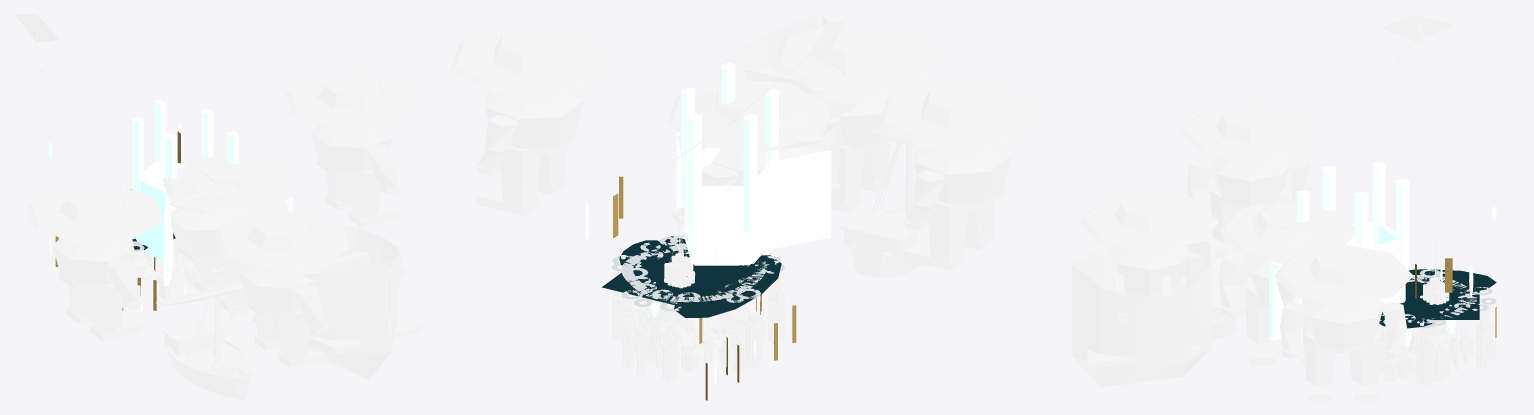
Rendered from ile-tonnerre-v5.glb.
The picture shows the model from 3 angles, left to right: view 1: azimuth 30°, elevation 25°; view 2: azimuth 150°, elevation 25°; view 3: azimuth 270°, elevation 25°; orthographic projection. The views are drawn at different scales.
Visible parts, largest first — view 1: ile_copie1.010, ile_copie0.014, ile_anime2.024, ile_anime1.024, ile_anime0.024, ile_anime4.018, ile_libre0.022, ile_anime3.022, ile_corps.024, ile_anime5.014, ile_vitres.016; view 2: ile_copie0.014, ile_copie1.010, ile_libre0.022, ile_anime2.024, ile_corps.024, ile_libre1.012, ile_anime0.024, ile_anime3.022, ile_anime4.018, ile_anime1.024, ile_vitres.016, ile_anime5.014 (+1 smaller); view 3: ile_copie1.010, ile_anime1.024, ile_copie0.014, ile_anime2.024, ile_anime4.018, ile_libre0.022, ile_corps.024, ile_anime3.022, ile_libre1.012, ile_anime5.014, ile_anime0.024, ile_lumieres.024 (+1 smaller).
Boxes of the visible parts, box(x1,y1,x2,y2) form: ile_copie1.010: box(285, 70, 420, 227); ile_copie0.014: box(27, 184, 162, 341); ile_anime2.024: box(214, 210, 349, 367); ile_anime1.024: box(253, 224, 421, 380); ile_anime0.024: box(156, 257, 255, 400); ile_anime4.018: box(169, 164, 289, 315); ile_libre0.022: box(132, 100, 292, 286); ile_anime3.022: box(162, 155, 298, 285); ile_corps.024: box(122, 238, 199, 309); ile_anime5.014: box(14, 14, 99, 77); ile_vitres.016: box(55, 131, 180, 310); ile_copie0.014: box(878, 79, 1043, 270); ile_copie1.010: box(450, 24, 615, 215); ile_libre0.022: box(676, 62, 831, 265); ile_anime2.024: box(774, 22, 939, 213); ile_corps.024: box(613, 205, 784, 381); ile_libre1.012: box(602, 235, 784, 317); ile_anime0.024: box(839, 126, 929, 278); ile_anime3.022: box(667, 79, 831, 151); ile_anime4.018: box(672, 90, 823, 251); ile_anime1.024: box(719, 14, 858, 200); ile_vitres.016: box(613, 176, 796, 400); ile_anime5.014: box(627, 20, 846, 190); ile_copie1.010: box(1274, 244, 1413, 400); ile_anime1.024: box(1072, 241, 1212, 387); ile_copie0.014: box(1180, 101, 1319, 257); ile_anime2.024: box(1079, 191, 1218, 298); ile_anime4.018: box(1218, 201, 1325, 365); ile_libre0.022: box(1269, 162, 1409, 340); ile_corps.024: box(1378, 240, 1496, 385); ile_anime3.022: box(1218, 200, 1354, 356); ile_libre1.012: box(1379, 269, 1496, 328); ile_anime5.014: box(1379, 14, 1519, 196); ile_anime0.024: box(1212, 283, 1236, 339); ile_lumieres.024: box(1403, 206, 1496, 347).
Size of the model in its own units: 7 by 4.63 by 6.39.
